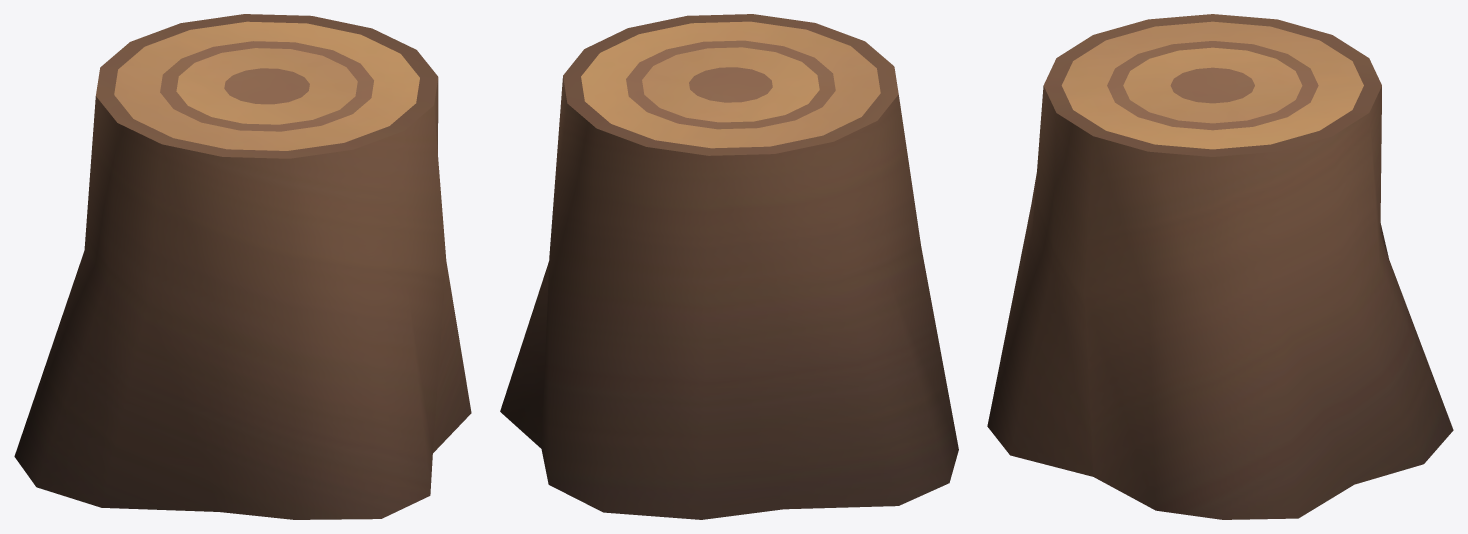
The model's file is stump tree.fbx.
The picture shows the model from 3 angles, left to right: view 1: azimuth 30°, elevation 25°; view 2: azimuth 150°, elevation 25°; view 3: azimuth 270°, elevation 25°; orthographic projection. The views are drawn at different scales.
Visible parts, largest first — view 1: stump_tree; view 2: stump_tree; view 3: stump_tree.
Part boxes in pixels (box(x1,y1,x2,y2)): stump_tree: box(14, 14, 471, 519); stump_tree: box(500, 14, 958, 519); stump_tree: box(987, 14, 1453, 519).
Size of the model in its own units: 5 by 3.94 by 4.88.
1 material, 1 textured.
